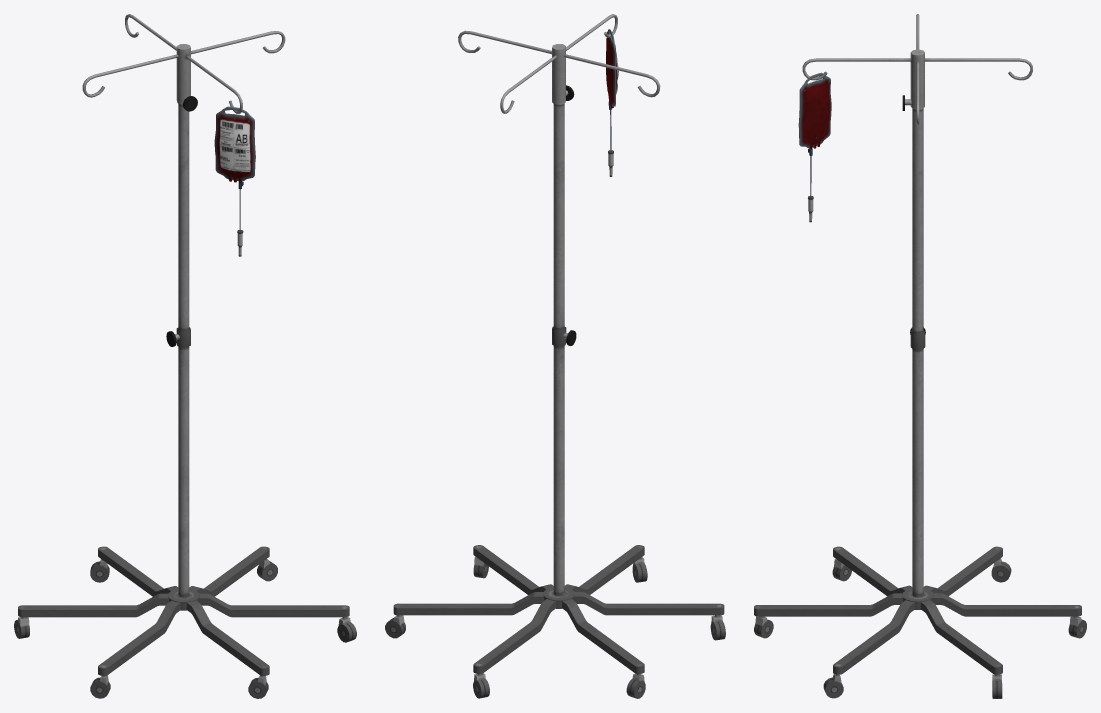
File: HH_IV_Stand.fbx
3 views of the same model, side by side, from view 1: azimuth 30°, elevation 25°; view 2: azimuth 150°, elevation 25°; view 3: azimuth 270°, elevation 25° (orthographic).
Visible parts, largest first — view 1: HH_IV_Stand_LOD0; view 2: HH_IV_Stand_LOD0; view 3: HH_IV_Stand_LOD0.
Part boxes in pixels (x1,y1,x2,y2): HH_IV_Stand_LOD0: (14, 14, 356, 698); HH_IV_Stand_LOD0: (385, 14, 725, 698); HH_IV_Stand_LOD0: (754, 14, 1086, 698).
Size of what is drawn, in the model's own units: 91.6 by 198 by 102.
